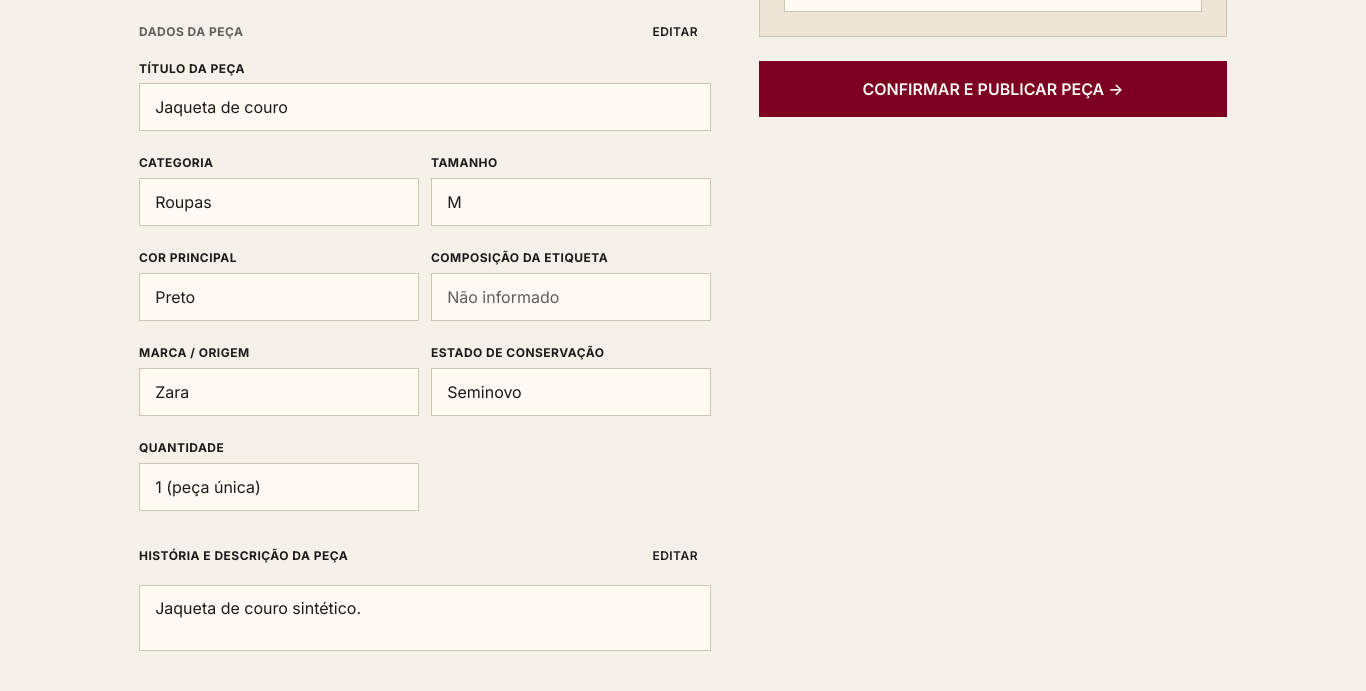
Scenario: Review › "Editar descrição" volta ao formulário focando Descrição
(page scrolled)
Click the button with aria-label "Editar descrição" at (675, 556), box [639,534,711,578]
(page scrolled)
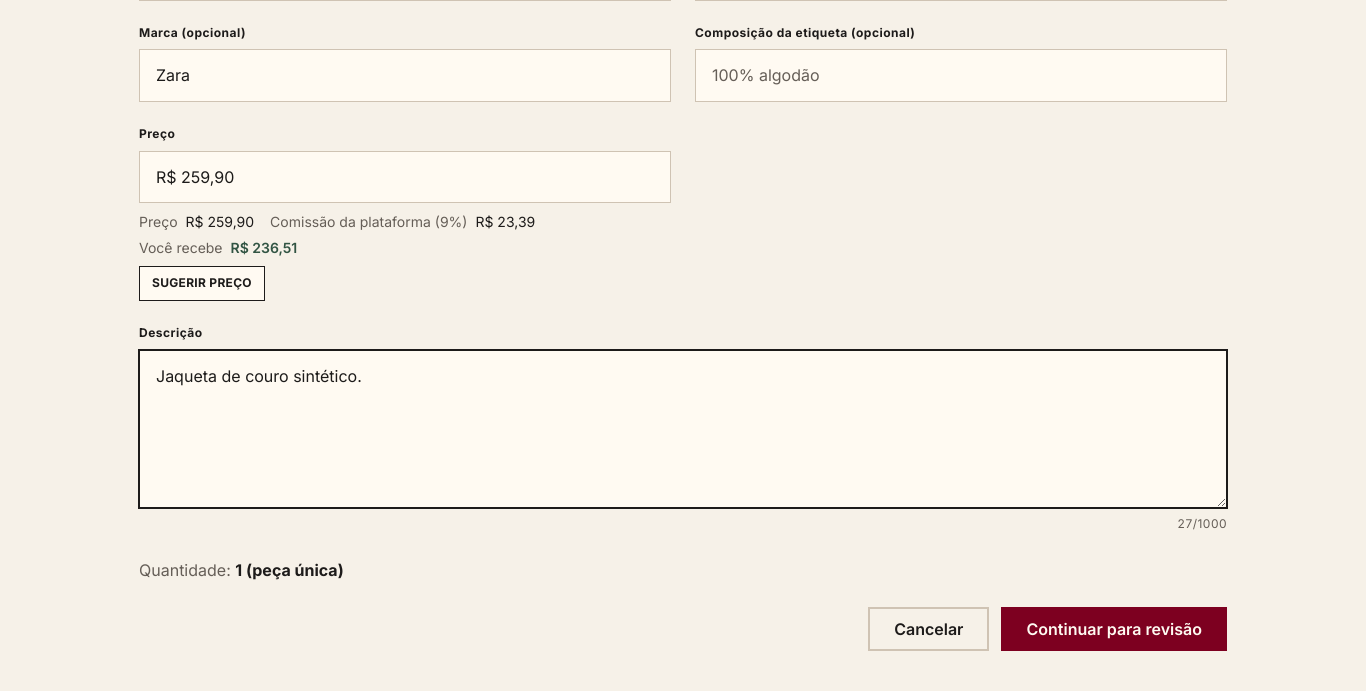
Expected: the button "Continuar para revisão" is shown, [1002,607,1227,651]
